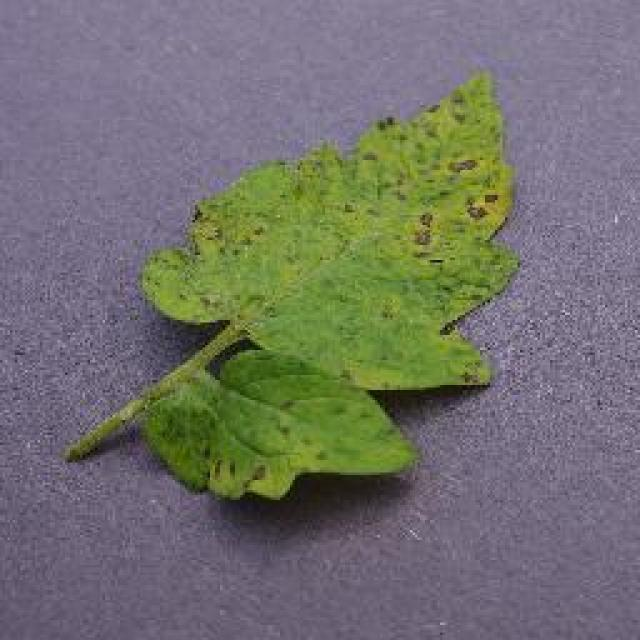Tomato Septoria spot leaf: (144, 70, 522, 498)
